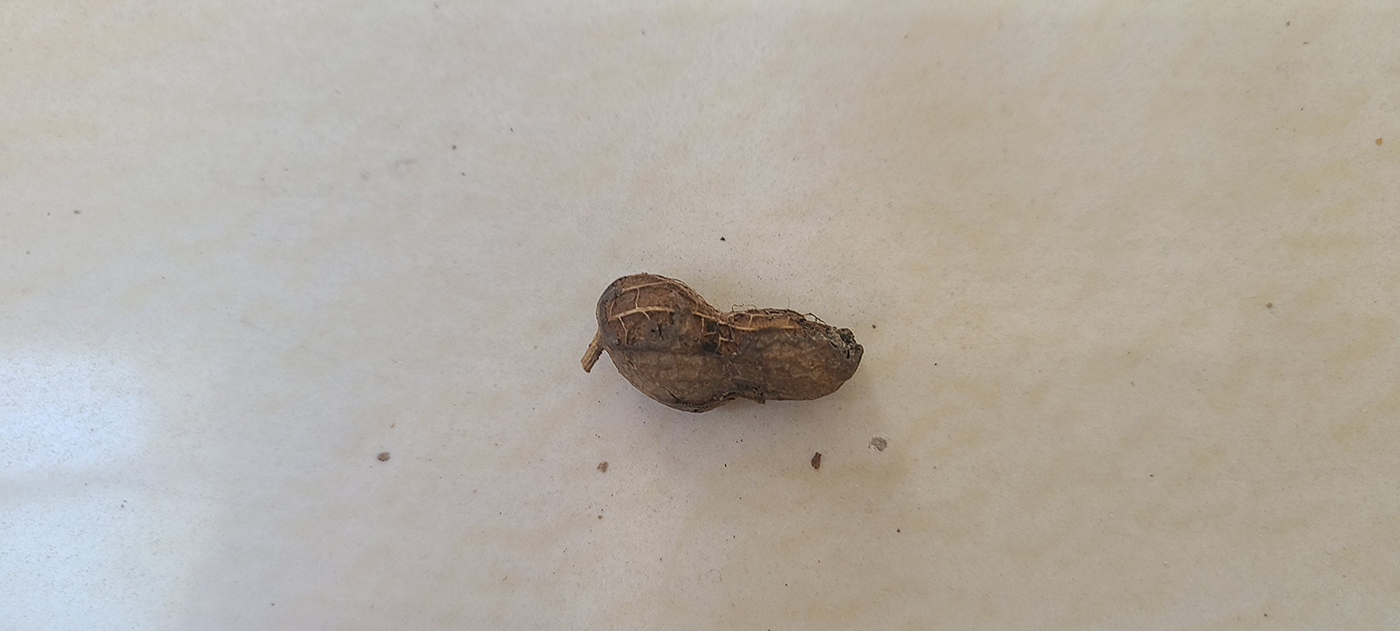l: (589, 272, 864, 416)
